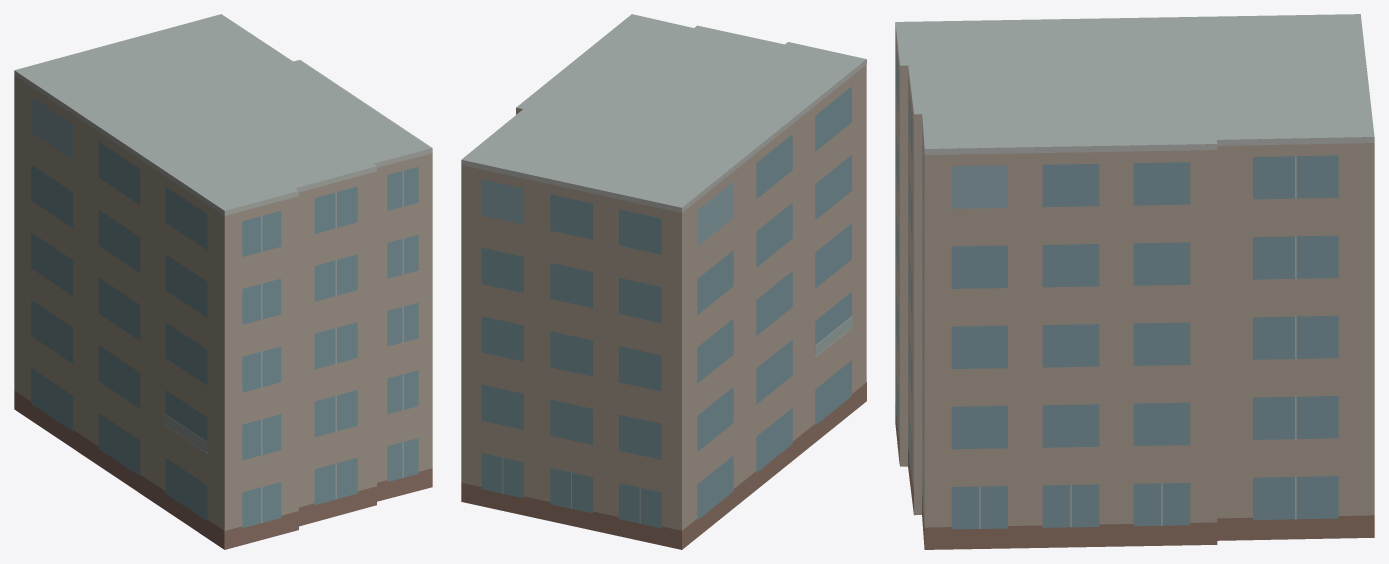
Rendered from survey-upis-32641926.glb.
The picture shows the model from 3 angles, left to right: view 1: azimuth 30°, elevation 25°; view 2: azimuth 150°, elevation 25°; view 3: azimuth 270°, elevation 25°; orthographic projection. The views are drawn at different scales.
Visible parts, largest first — view 1: survey-upis-32641926.tmp; view 2: survey-upis-32641926.tmp; view 3: survey-upis-32641926.tmp.
Boxes of the visible parts, left/top/right/bottom form: survey-upis-32641926.tmp: left=14, top=14, right=432, bottom=549; survey-upis-32641926.tmp: left=461, top=14, right=866, bottom=549; survey-upis-32641926.tmp: left=895, top=14, right=1374, bottom=549.
Size of the model in its own units: 11.63 by 16.09 by 17.44.
